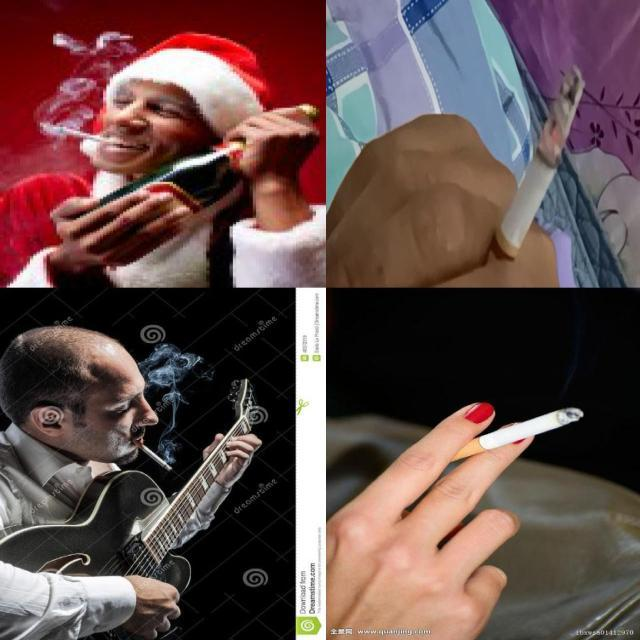smoking: (480, 63, 584, 287), (437, 406, 585, 462), (128, 433, 174, 474), (50, 123, 124, 146)
